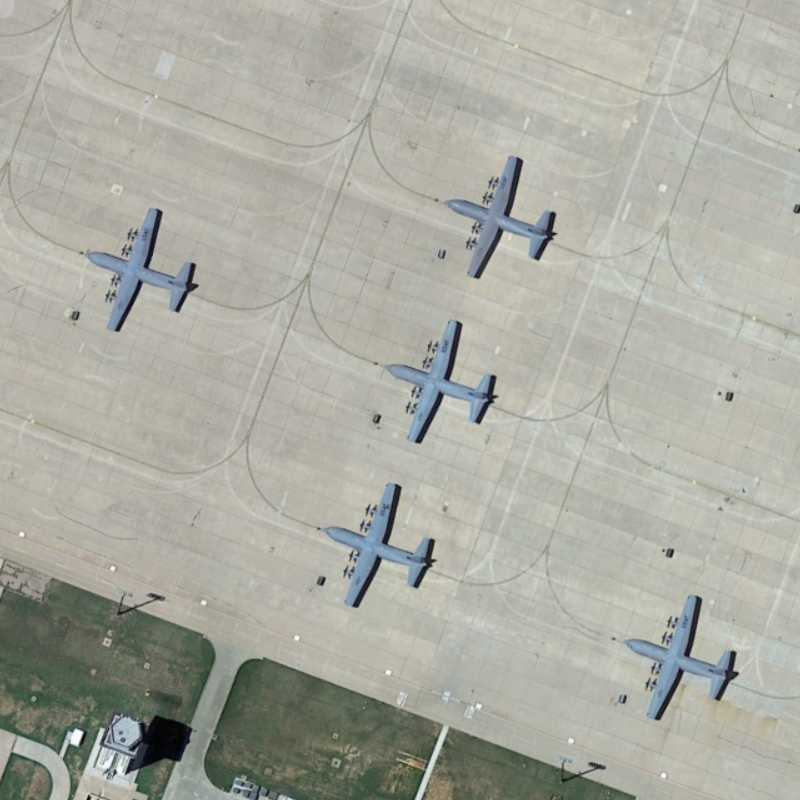A2: (74, 200, 213, 340), (437, 146, 565, 287), (620, 589, 748, 725), (378, 312, 506, 446), (320, 471, 441, 612)
